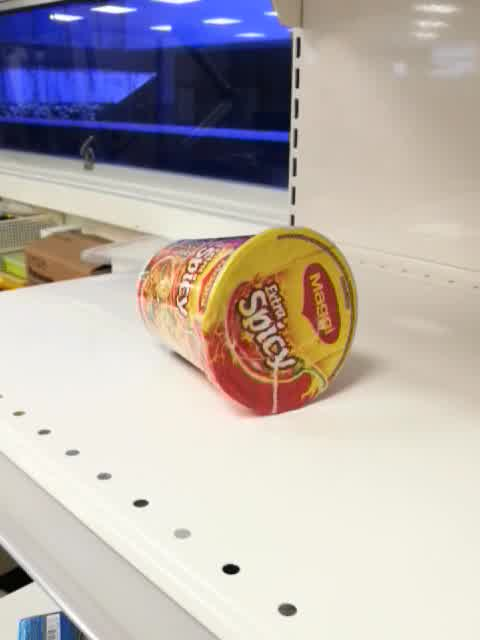maggi: (138, 226, 360, 416)
